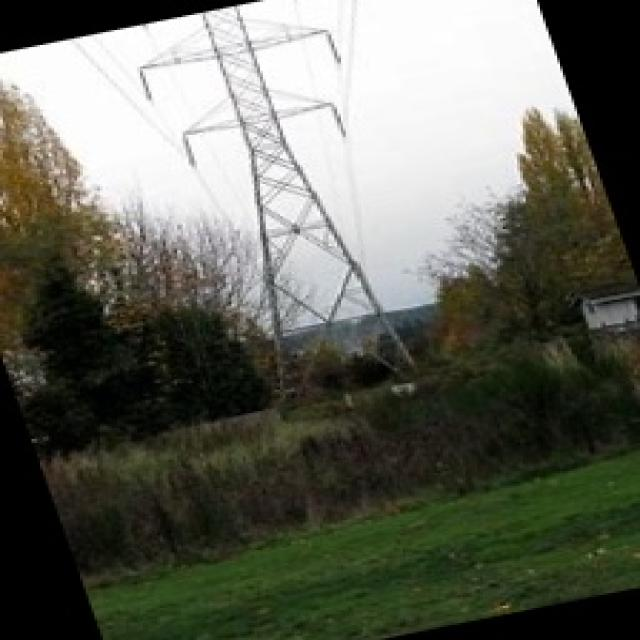utility poles: (350, 295, 528, 393), (197, 300, 322, 409)
